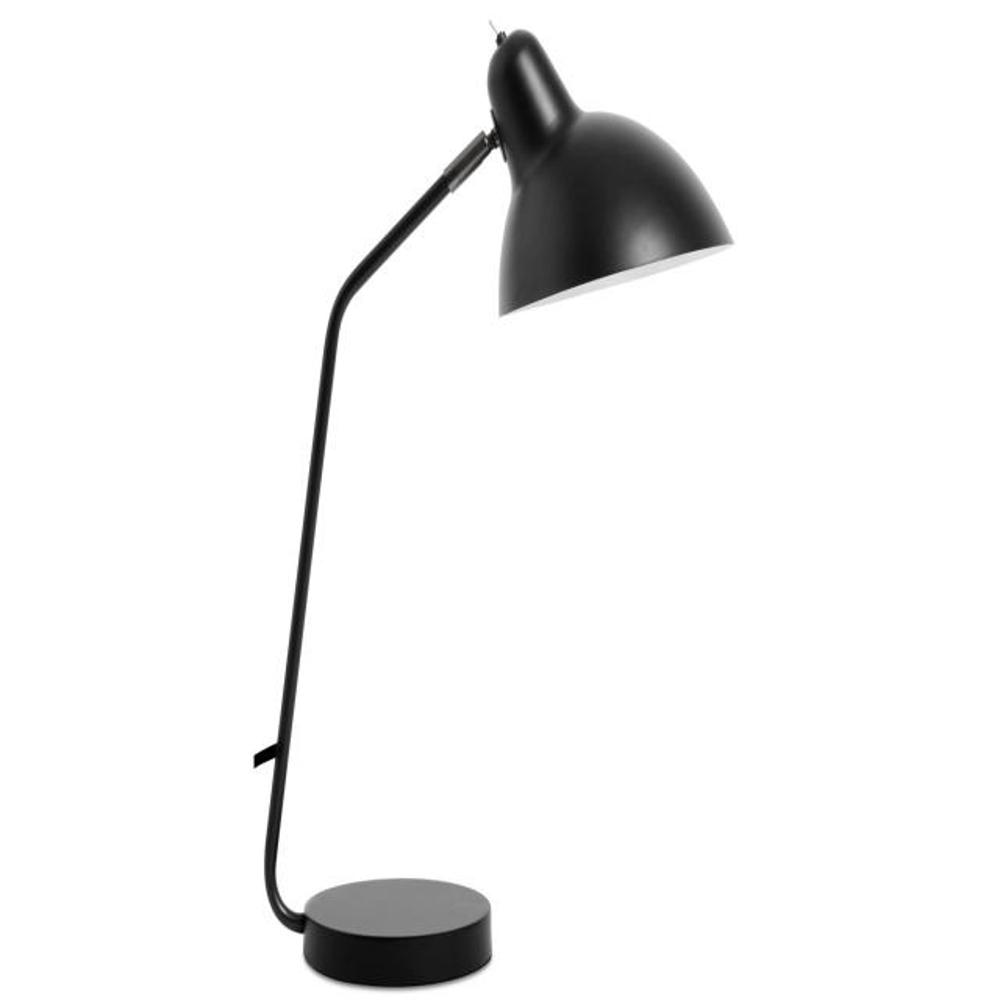shelf: (225, 11, 717, 992)
